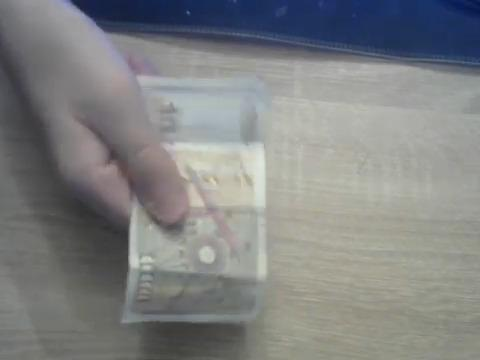10leva: (120, 76, 270, 325)
